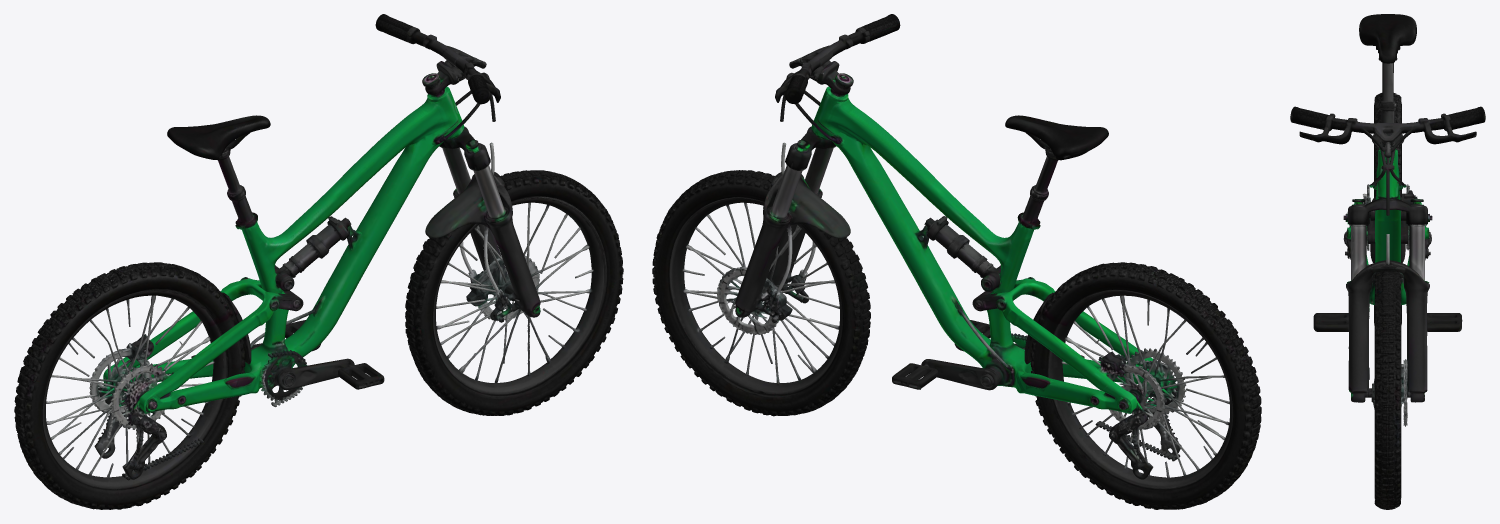
Rendered from bike-vortex.glb.
3 renders of one model, left to right at view 1: azimuth 30°, elevation 25°; view 2: azimuth 150°, elevation 25°; view 3: azimuth 270°, elevation 25°, orthographic. The views are drawn at different scales.
Visible parts, largest first — view 1: tripo_node_be73dfc1-c5a1-4a78-b414-0bab8fb6df2f; view 2: tripo_node_be73dfc1-c5a1-4a78-b414-0bab8fb6df2f; view 3: tripo_node_be73dfc1-c5a1-4a78-b414-0bab8fb6df2f.
Boxes of the visible parts, left/top/right/bottom form: tripo_node_be73dfc1-c5a1-4a78-b414-0bab8fb6df2f: left=14, top=14, right=623, bottom=509; tripo_node_be73dfc1-c5a1-4a78-b414-0bab8fb6df2f: left=652, top=14, right=1261, bottom=509; tripo_node_be73dfc1-c5a1-4a78-b414-0bab8fb6df2f: left=1290, top=14, right=1485, bottom=509.
Size of the model in its own units: 0.9804 by 0.5906 by 0.2935.
Materials: 1 (1 with a texture image).
